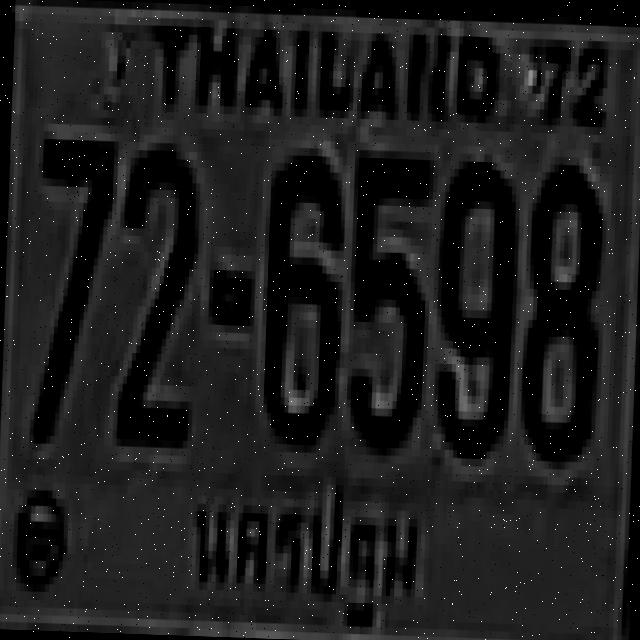2: (112, 133, 198, 440)
5: (345, 146, 430, 444)
6: (258, 146, 342, 438)
7: (29, 130, 114, 438)
8: (519, 156, 600, 454)
9: (432, 152, 517, 452)
NakhonPathom: (184, 467, 432, 640)
